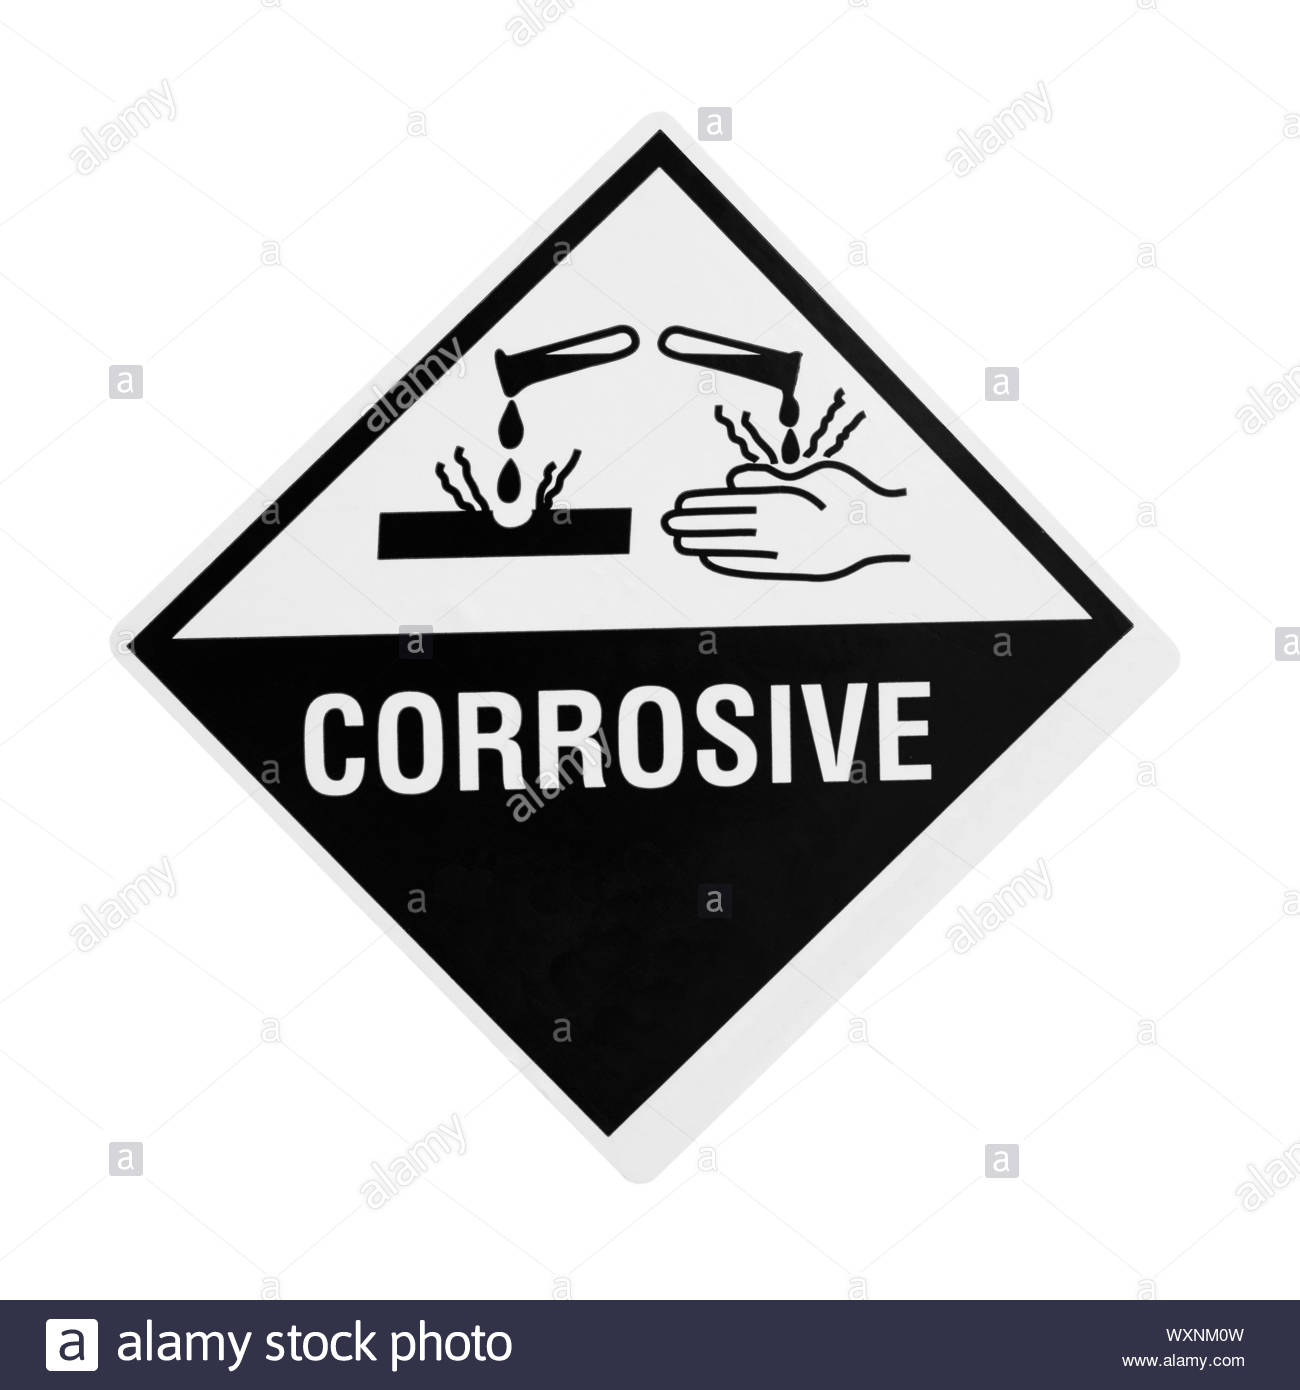Corrosive: (108, 112, 1185, 1184)
